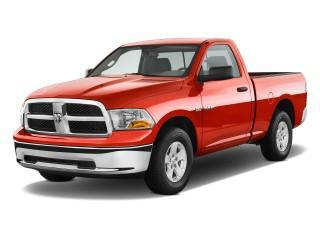ram: (52, 111, 65, 125)
